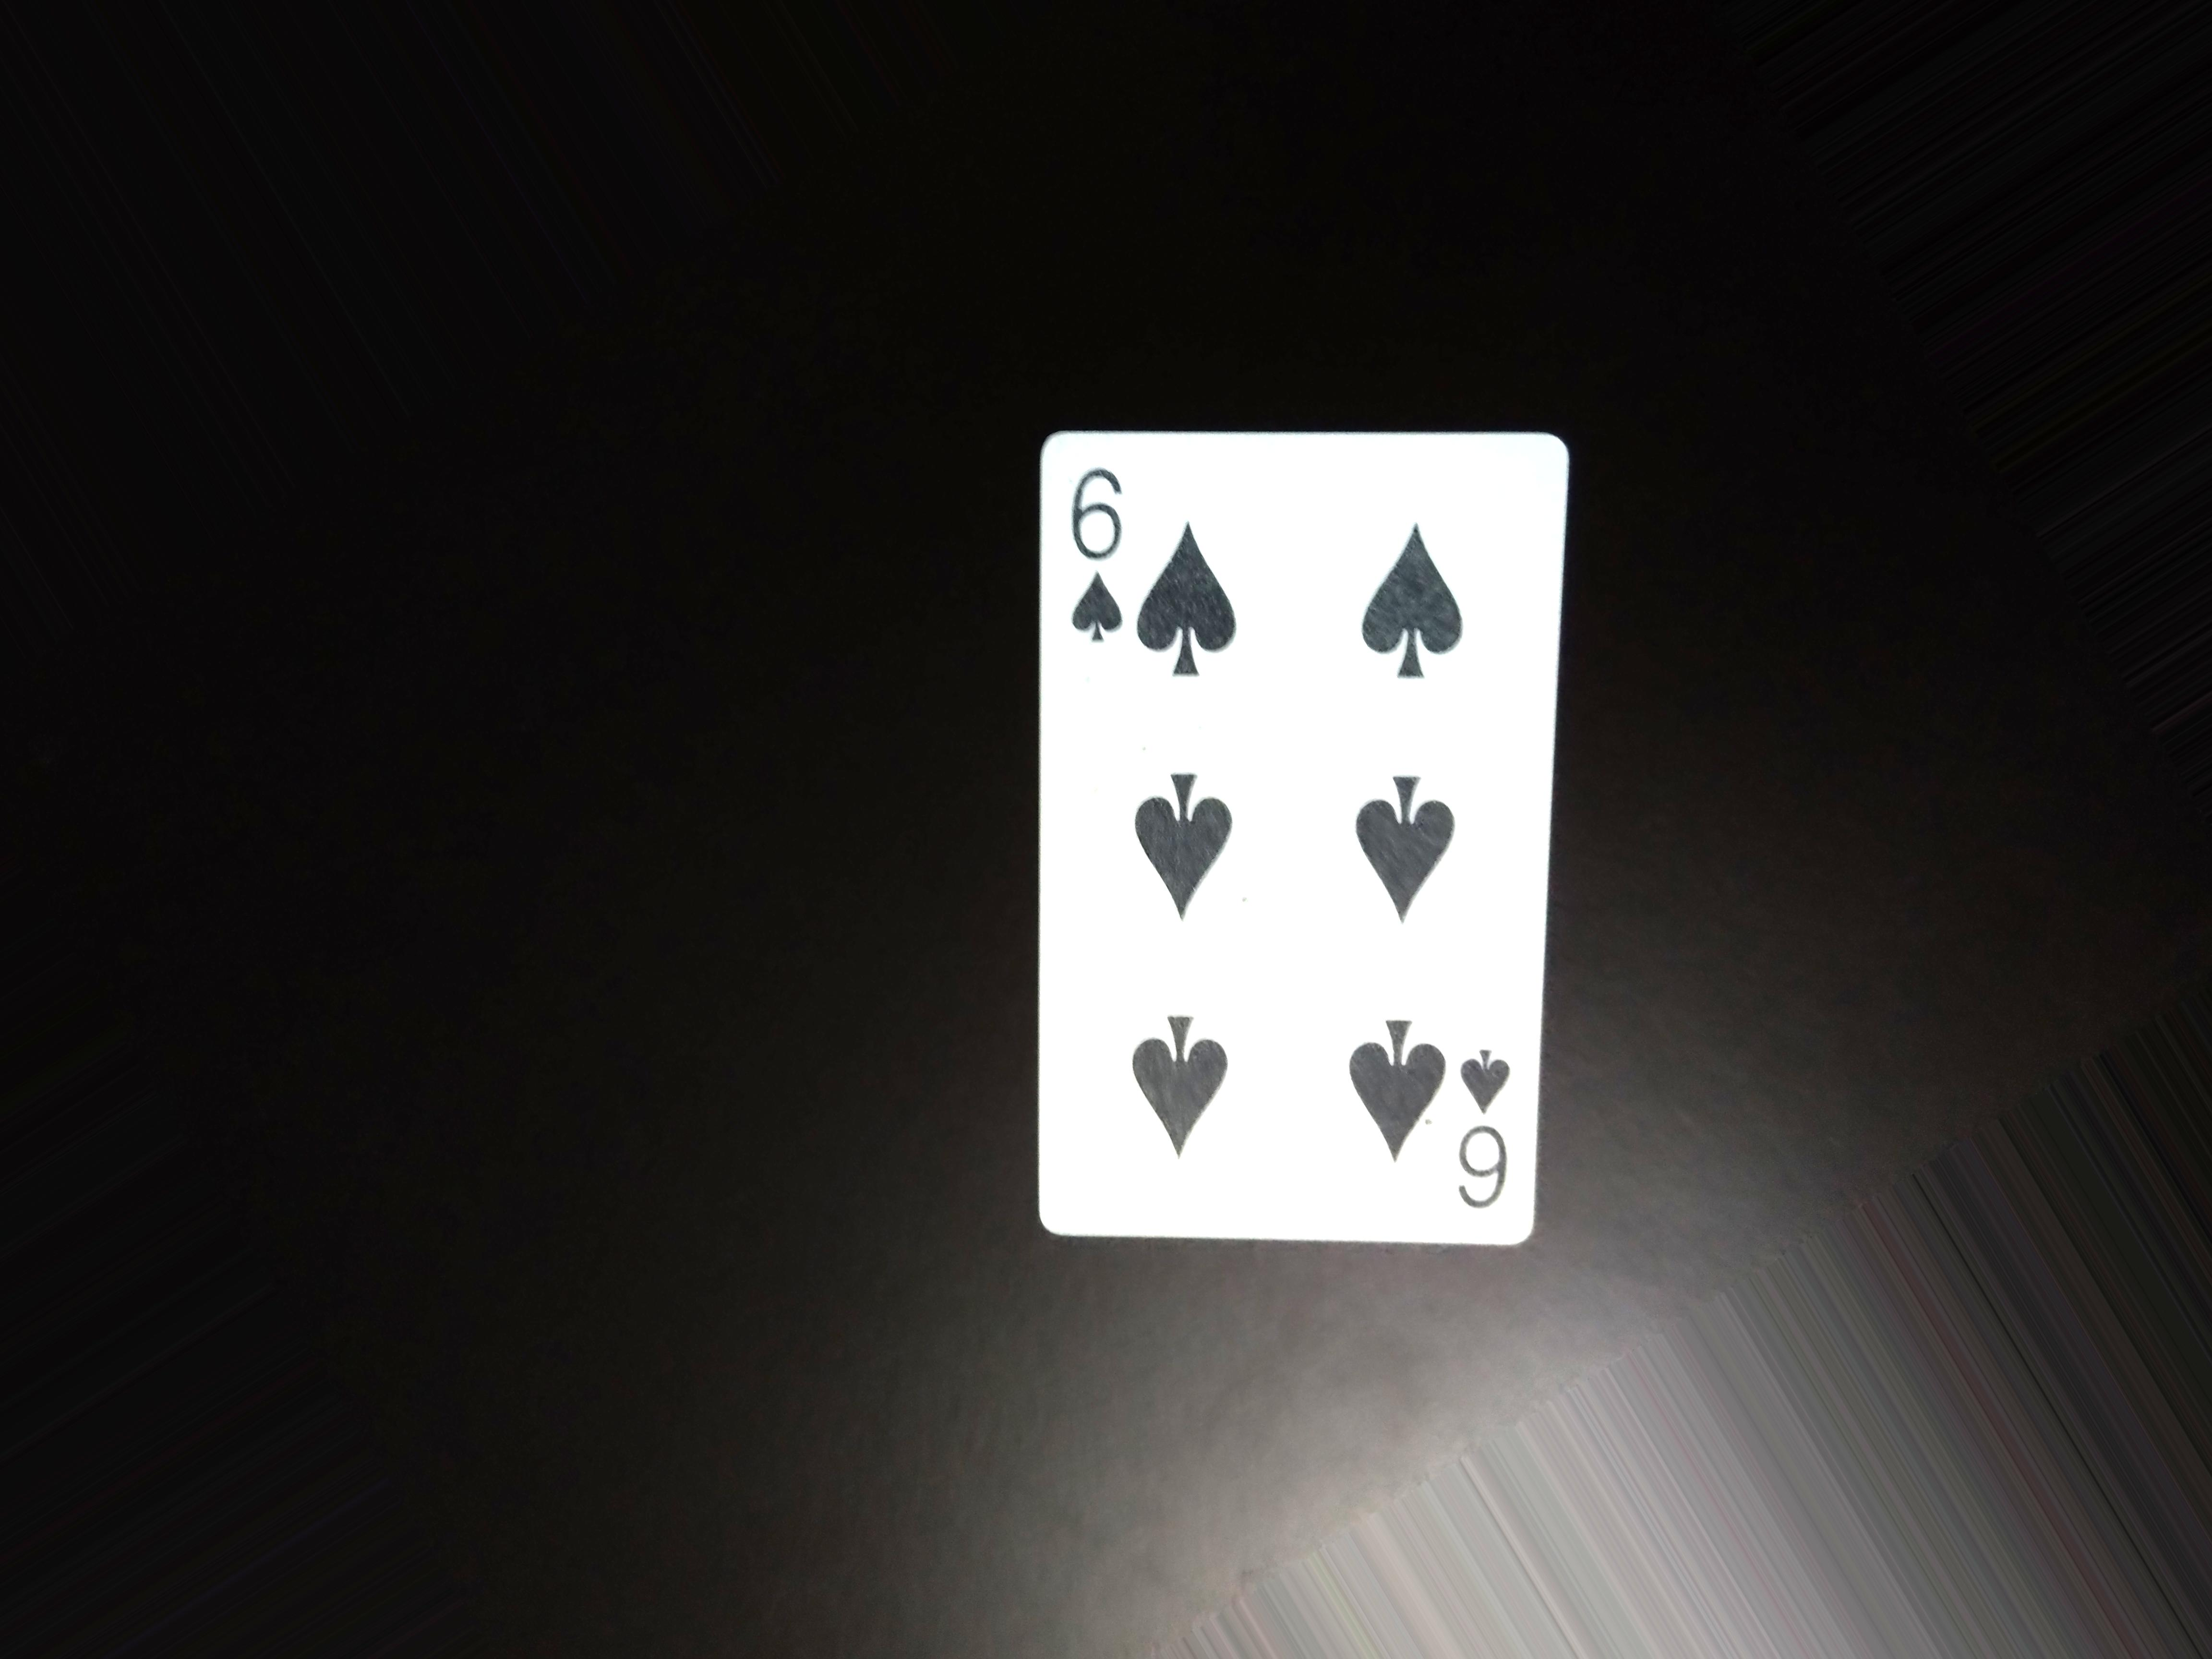6S: (1068, 446, 1146, 667)
